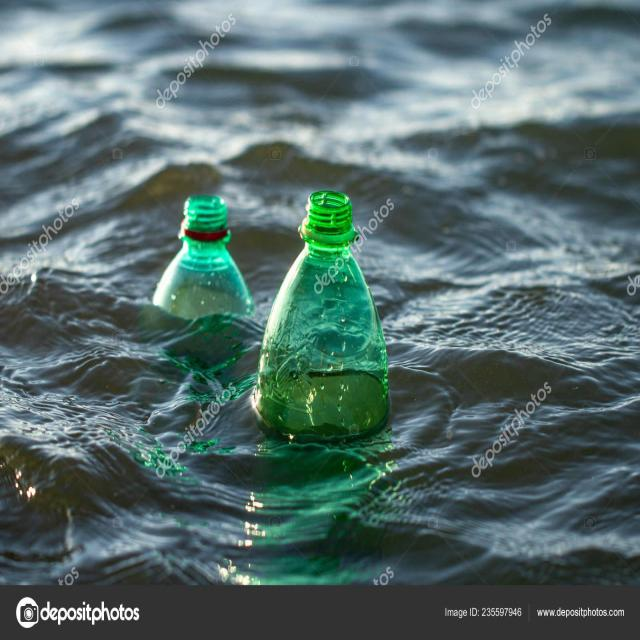bottle: (244, 183, 406, 459), (147, 172, 258, 354)
